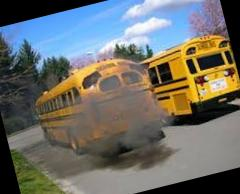Smoke: (52, 75, 174, 174)
